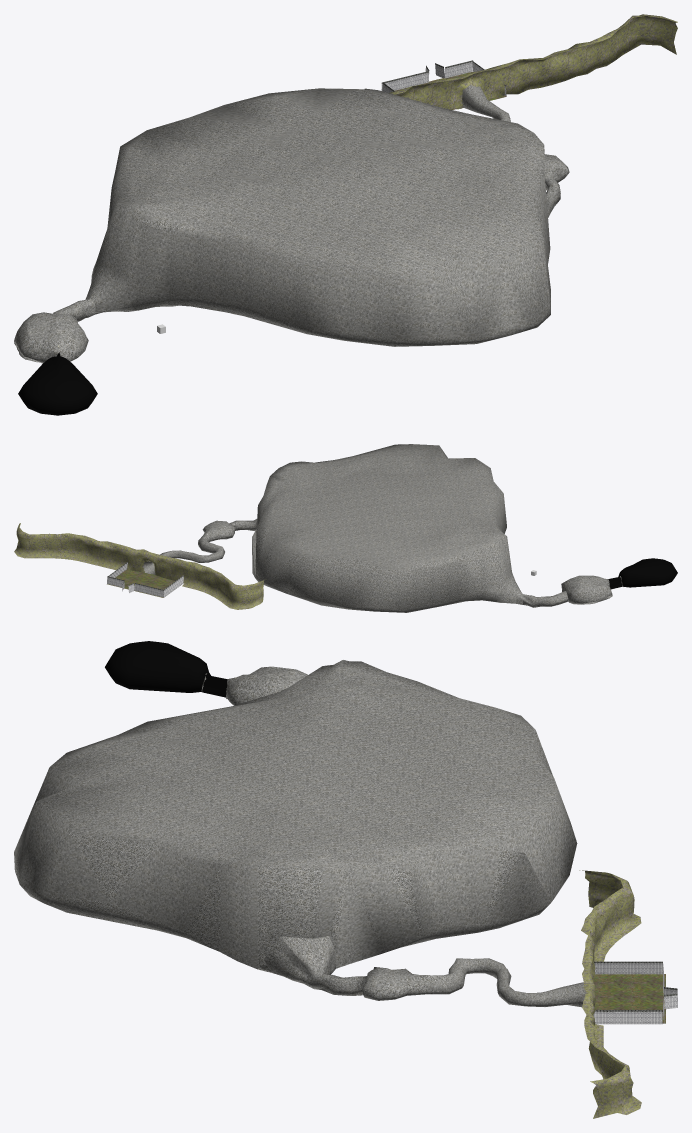
The model's file is Greybox 06.FBX.
3 views of the same model, one above another, from view 1: azimuth 30°, elevation 25°; view 2: azimuth 150°, elevation 25°; view 3: azimuth 270°, elevation 25° (orthographic). The views are drawn at different scales.
Parts seen in each view (by area): view 1: Cylinder001, cliff face, Void room, Second room cave, Big cave exit room, cave exit tunnel; view 2: Cylinder001, cliff face, Void room, Second room cave, cave exit tunnel, Big cave exit room, Plane001, Tunnel 01; view 3: Cylinder001, cliff face, Big cave exit room, Void room, cave exit tunnel, Plane001, Second room cave, Plane027, Plane026.
Boxes of the visible parts, x1,y1,x2,y2 form: Cylinder001: [85, 88, 550, 346]; cliff face: [389, 14, 677, 109]; Void room: [18, 352, 97, 415]; Second room cave: [14, 312, 88, 362]; Big cave exit room: [544, 154, 569, 217]; cave exit tunnel: [462, 85, 510, 121]; Cylinder001: [252, 444, 523, 612]; cliff face: [14, 523, 263, 609]; Void room: [608, 558, 677, 589]; Second room cave: [561, 575, 612, 603]; cave exit tunnel: [143, 533, 224, 574]; Big cave exit room: [202, 519, 257, 541]; Plane001: [107, 569, 174, 597]; Tunnel 01: [522, 591, 568, 607]; Cylinder001: [14, 660, 577, 969]; cliff face: [579, 870, 641, 1118]; Big cave exit room: [264, 936, 428, 1000]; Void room: [105, 641, 227, 697]; cave exit tunnel: [427, 958, 585, 1007]; Plane001: [594, 974, 665, 1023]; Second room cave: [226, 666, 307, 705]; Plane027: [593, 1010, 662, 1024]; Plane026: [594, 961, 662, 974].
Size of the model in its own units: 26820 by 3236 by 16254.
